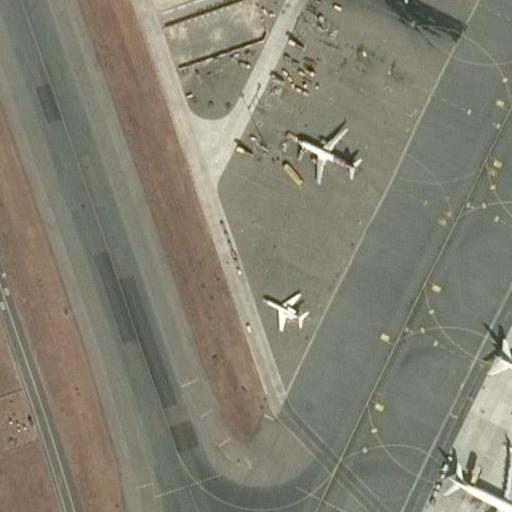Aircraft: (434, 436, 512, 512), (281, 122, 364, 186), (250, 279, 312, 336), (484, 316, 512, 427), (368, 0, 455, 5)
